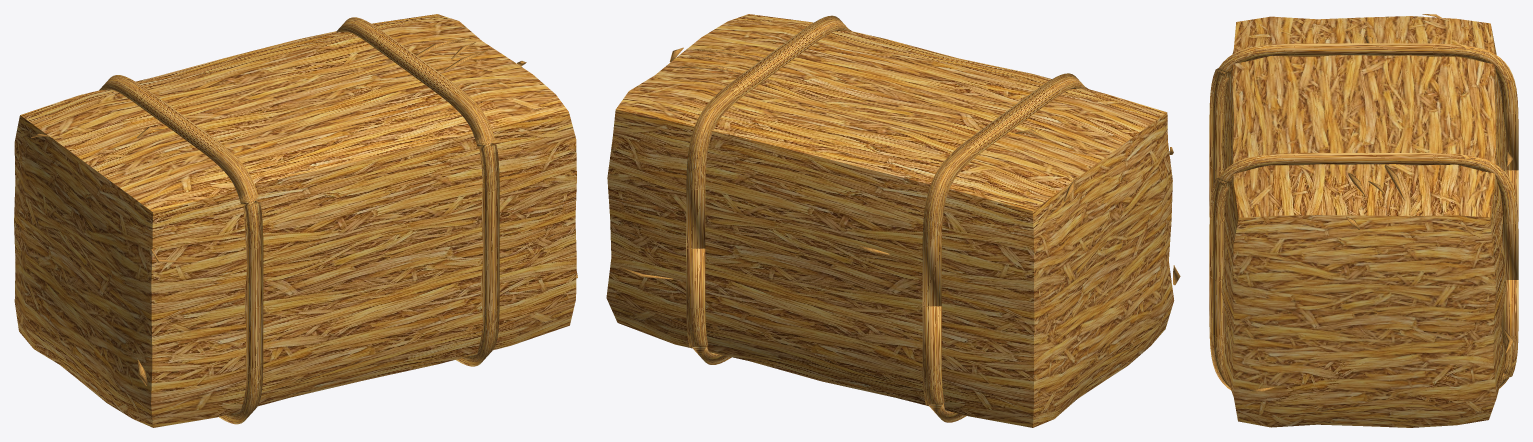
File: hay-bale-NskzIi2x.glb
The picture shows the model from 3 angles, left to right: view 1: azimuth 30°, elevation 25°; view 2: azimuth 150°, elevation 25°; view 3: azimuth 270°, elevation 25°; orthographic projection. The views are drawn at different scales.
Visible parts, largest first — view 1: 짚단_게임용_단일원형; view 2: 짚단_게임용_단일원형; view 3: 짚단_게임용_단일원형.
Boxes of the visible parts, x1=… form: 짚단_게임용_단일원형: x1=14, y1=14, x2=577, y2=427; 짚단_게임용_단일원형: x1=606, y1=14, x2=1180, y2=427; 짚단_게임용_단일원형: x1=1209, y1=14, x2=1518, y2=427.
Bounding box in the file's own units: 2.56 × 1.45 × 1.6.
2 materials, 2 textured.
